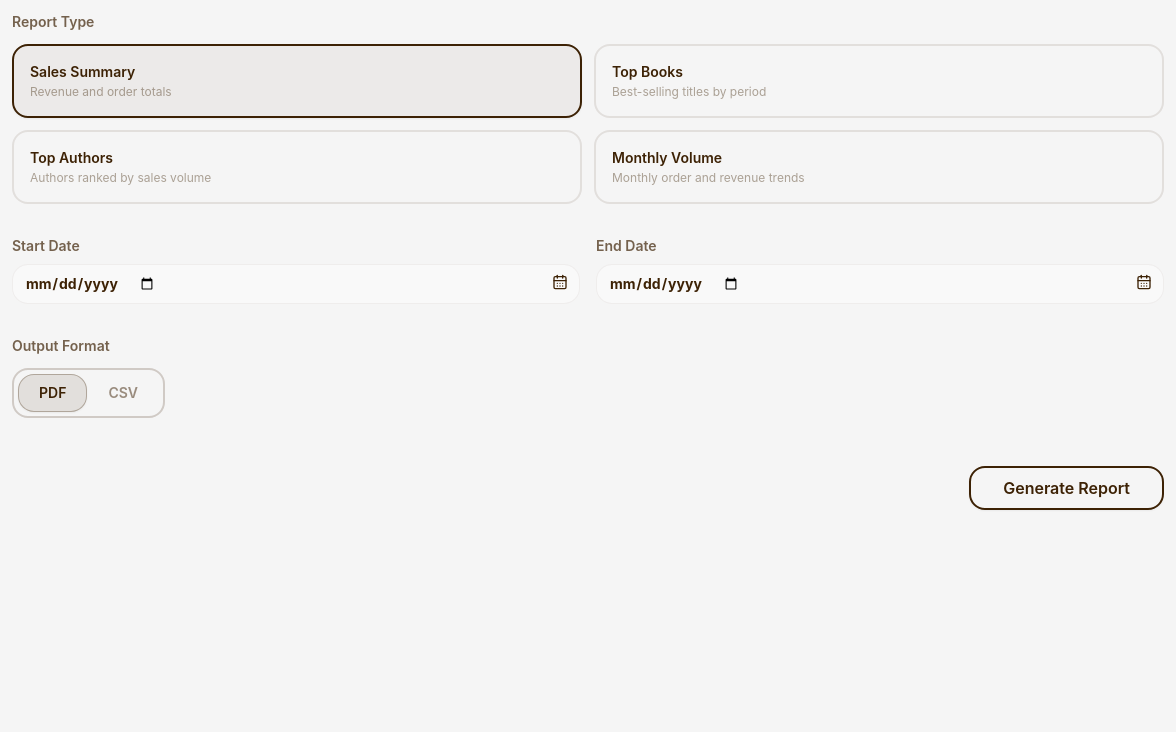
Test: ReportForm › shows limit field for Top Authors
Click the text "Top Authors" at [72, 158], box top-left (30, 149), bottom-right (113, 166)
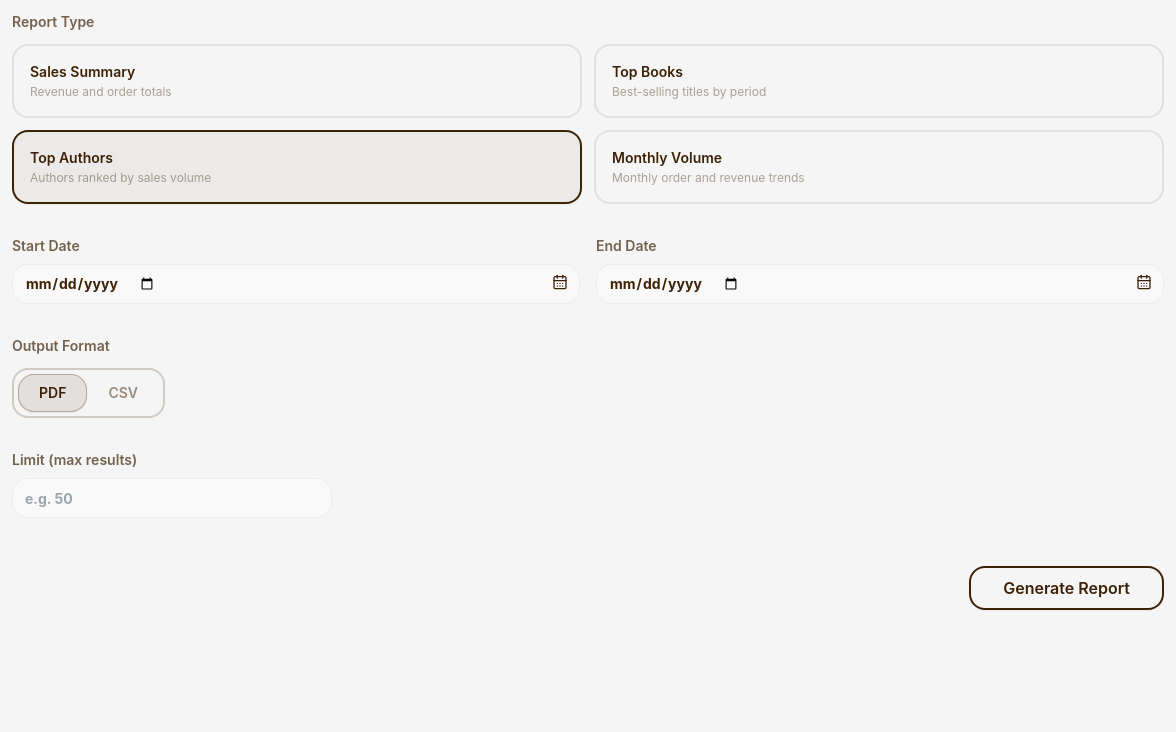
Check: the number field labelled "Limit (max results)" is shown, box top-left (12, 478), bottom-right (332, 518)
